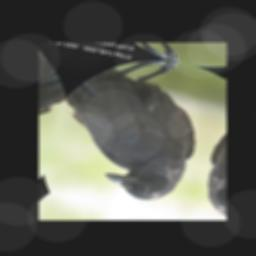Crow: (43, 44, 218, 208)
